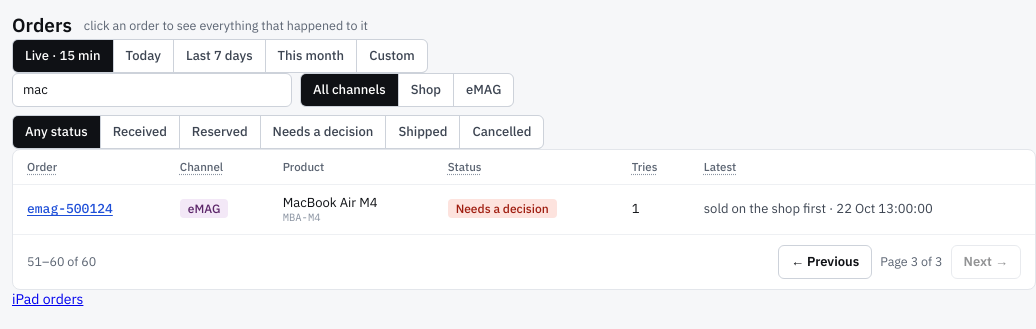
Test: the search box follows the address when it changes from outside
Check: the search field named "Search order or product" holds "mac", box [12, 73, 292, 107]
Click the link "iPad orders" at (48, 299), box [12, 290, 83, 308]
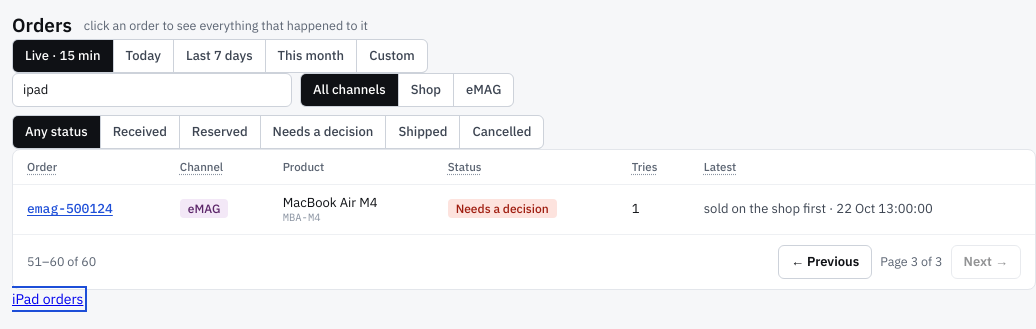
Check: the search field named "Search order or product" holds "ipad", box [12, 73, 292, 107]
